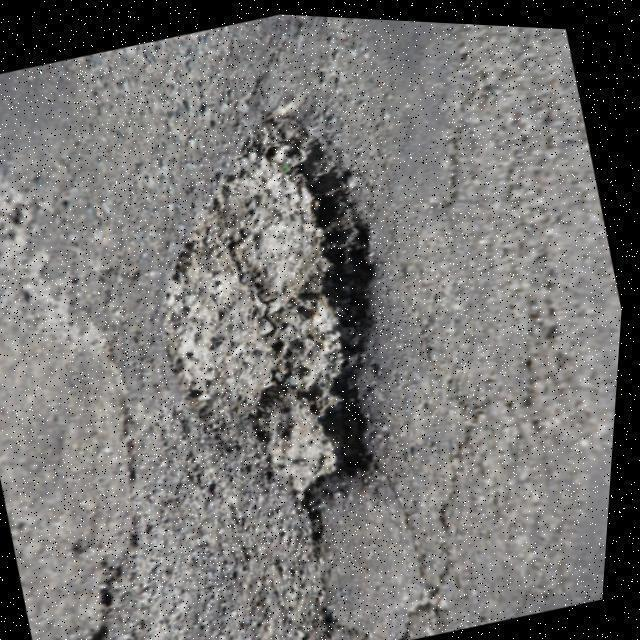Pothole: (149, 95, 392, 582)
